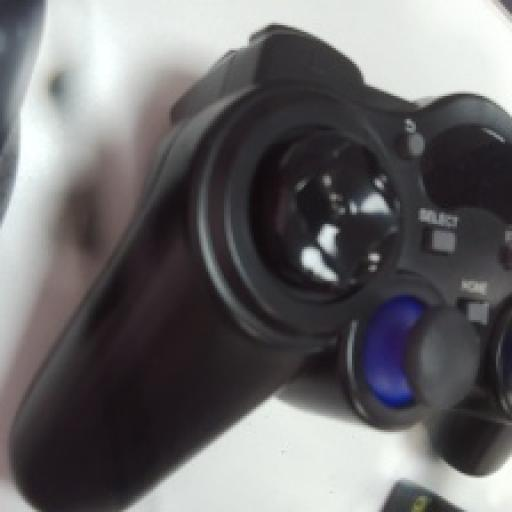game pad: (11, 25, 510, 510)
